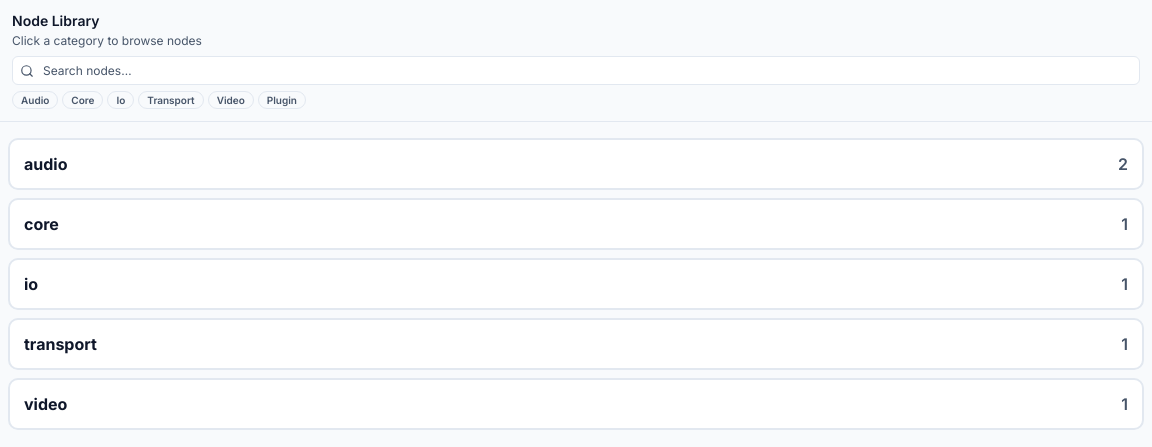
Test: NodePalette › filters by category chip
What coordinates should you click on to do the following:
click the button with aria-label "Filter by audio"
I would click on:
 (35, 100)
Its box is [12,91,58,109].
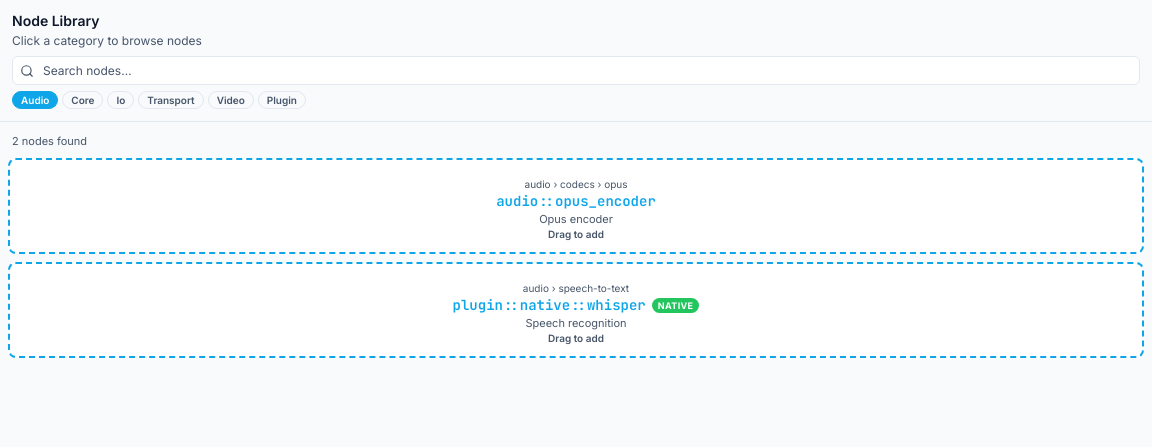
Expected: the text "2 nodes found" is shown, [12,134,87,148]
Expected: the text "audio::opus_encoder" is shown, [496,192,656,210]
Expected: the text "plugin::native::whisper" is shown, [453,296,646,314]
